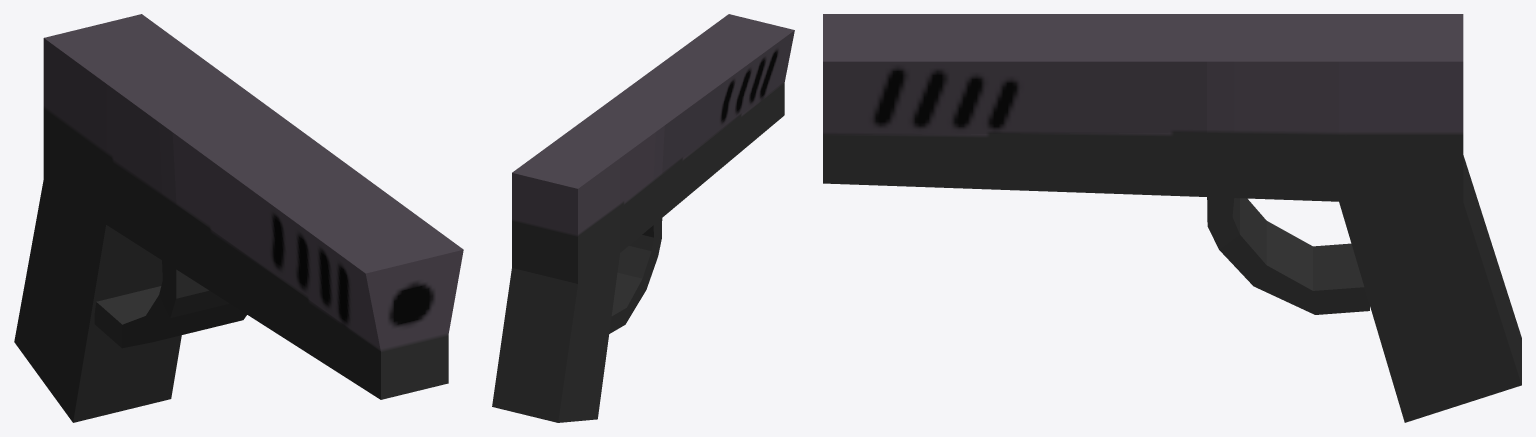
Rendered from gunTemp.glb.
3 views of the same model, side by side, from view 1: azimuth 30°, elevation 25°; view 2: azimuth 150°, elevation 25°; view 3: azimuth 270°, elevation 25° (orthographic). The views are drawn at different scales.
Parts seen in each view (by area): view 1: Cube; view 2: Cube; view 3: Cube.
Part boxes in pixels (<box>): Cube: <box>14,14,463,422</box>; Cube: <box>492,14,794,422</box>; Cube: <box>823,14,1521,422</box>.
Size of the model in its own units: 0.3517 by 1.25 by 2.18.
1 material, 1 textured.
